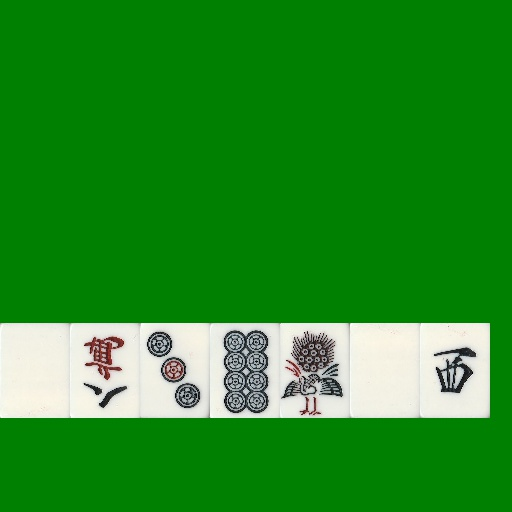1s: (280, 323, 350, 418)
3p: (140, 323, 210, 418)
8m: (70, 323, 140, 418)
8p: (210, 323, 280, 418)
west: (420, 323, 490, 418)
white: (0, 323, 70, 418), (350, 323, 420, 418)
